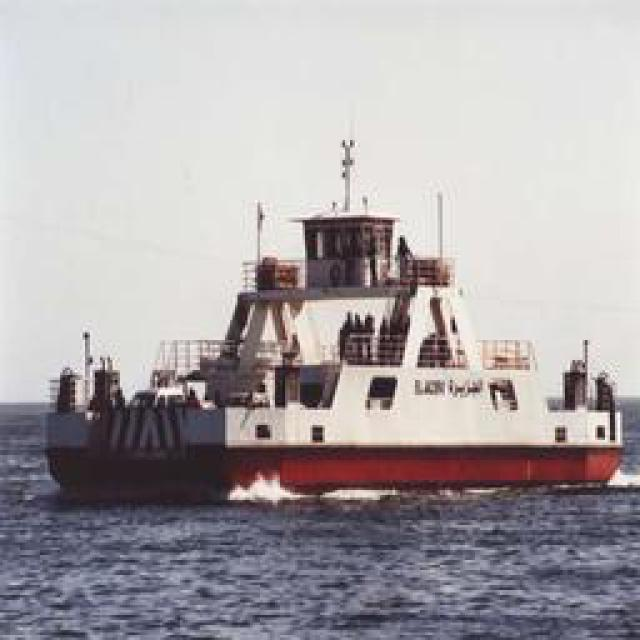Ship: (45, 135, 620, 498)
